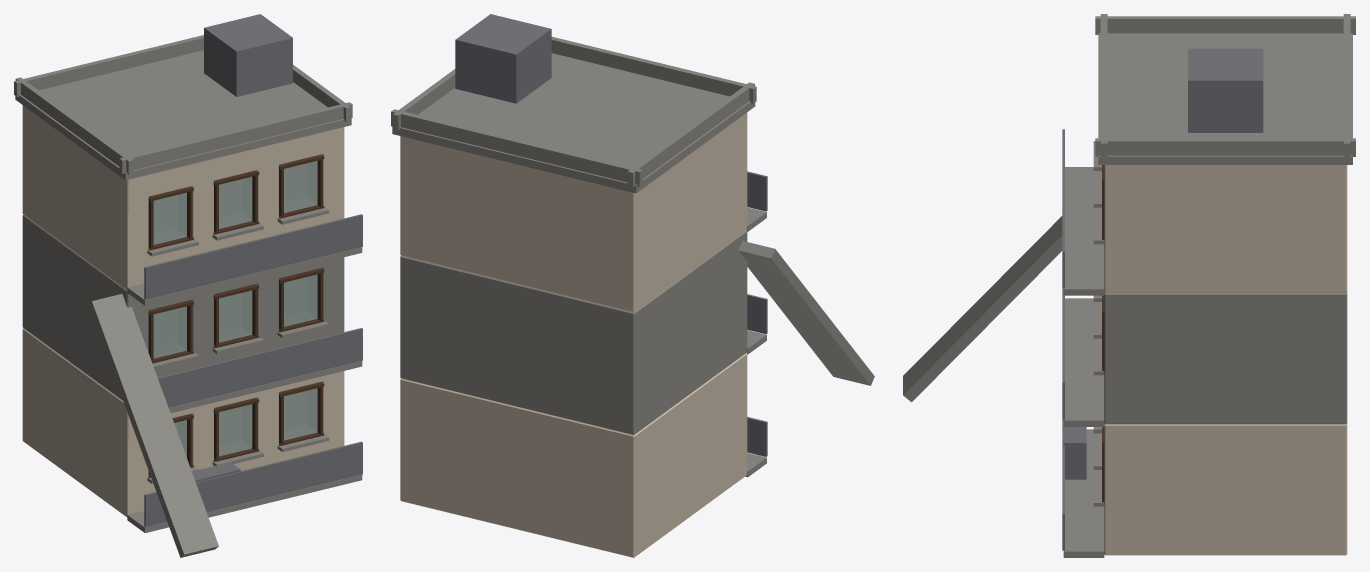
Rendered from SM_K_HouseD_Apt.obj.
The picture shows the model from 3 angles, left to right: view 1: azimuth 30°, elevation 25°; view 2: azimuth 150°, elevation 25°; view 3: azimuth 270°, elevation 25°; orthographic projection. The views are drawn at different scales.
Parts seen in each view (by area): view 1: SM_K_HouseD_Apt; view 2: SM_K_HouseD_Apt; view 3: SM_K_HouseD_Apt.
Part boxes in pixels (left/top/right/bottom): SM_K_HouseD_Apt: left=14, top=14, right=362, bottom=557; SM_K_HouseD_Apt: left=391, top=14, right=874, bottom=557; SM_K_HouseD_Apt: left=903, top=14, right=1355, bottom=557.
Bounding box in the file's own units: 5.85 × 8.94 × 7.82.
